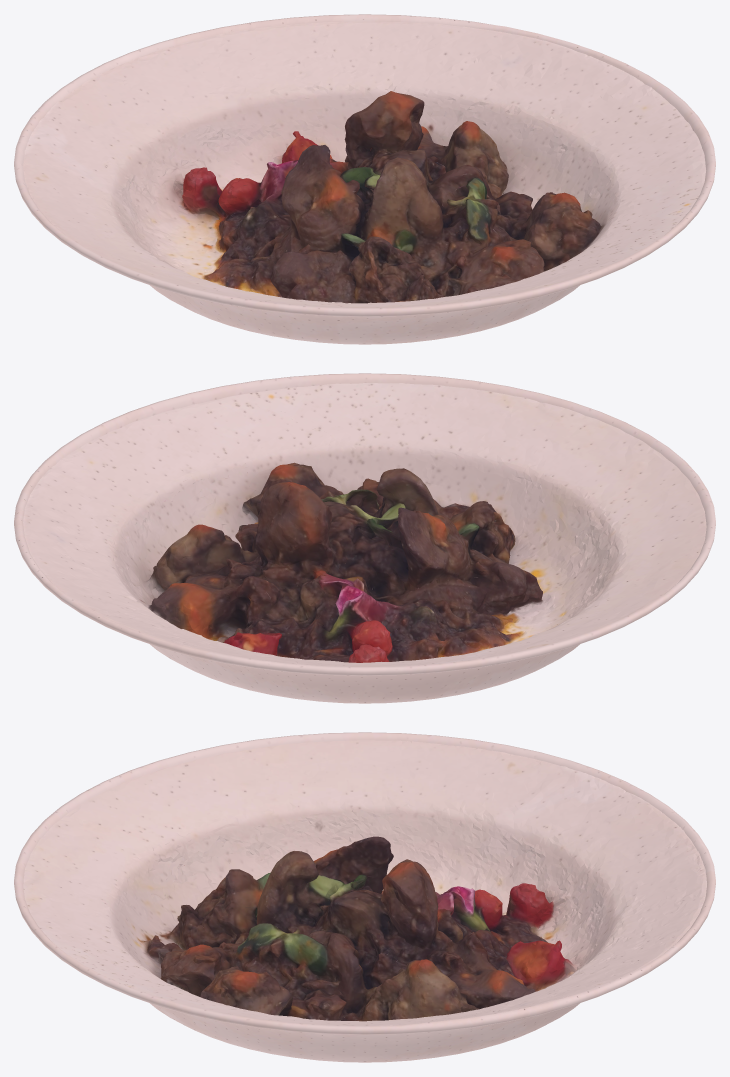
File: Kachhi Mirchi.glb
3 renders of one model, top to bottom at view 1: azimuth 30°, elevation 25°; view 2: azimuth 150°, elevation 25°; view 3: azimuth 270°, elevation 25°, orthographic.
Parts seen in each view (by area): view 1: default1.001, pCylinder1.001; view 2: default1.001, pCylinder1.001; view 3: default1.001, pCylinder1.001.
Part boxes in pixels (box(x1,y1,x2,y2)): default1.001: box(23, 21, 705, 307); pCylinder1.001: box(14, 14, 715, 344); default1.001: box(23, 383, 706, 666); pCylinder1.001: box(14, 373, 715, 703); default1.001: box(23, 740, 706, 1026); pCylinder1.001: box(14, 732, 715, 1062).
Size of the model in its own units: 0.1388 by 0.0298 by 0.1388.
2 materials, 2 textured.
